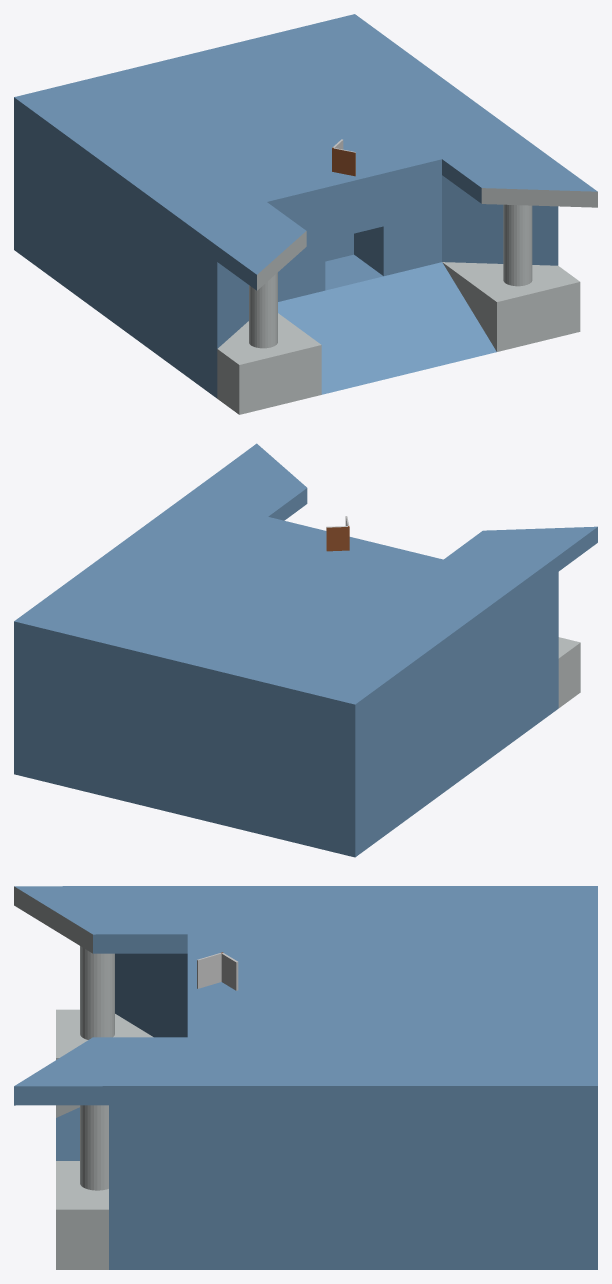
File: Book_House.fbx
3 views of the same model, one above another, from view 1: azimuth 30°, elevation 25°; view 2: azimuth 150°, elevation 25°; view 3: azimuth 270°, elevation 25° (orthographic). The views are drawn at different scales.
Visible parts, largest first — view 1: Building, Cube; view 2: Building, Cube; view 3: Building, Cube.
Part boxes in pixels (<box>): Building: <box>14,14,597,414</box>; Cube: <box>332,139,355,176</box>; Building: <box>14,443,597,857</box>; Cube: <box>326,516,349,551</box>; Building: <box>14,886,597,1269</box>; Cube: <box>197,952,238,990</box>.
Bounding box in the file's own units: 600 × 297 × 740.
